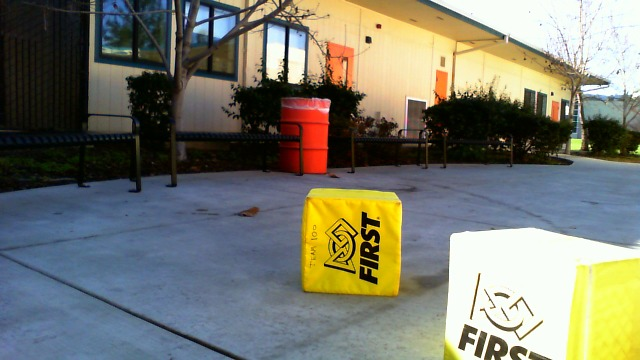cube: (444, 226, 638, 360), (300, 188, 401, 298)
